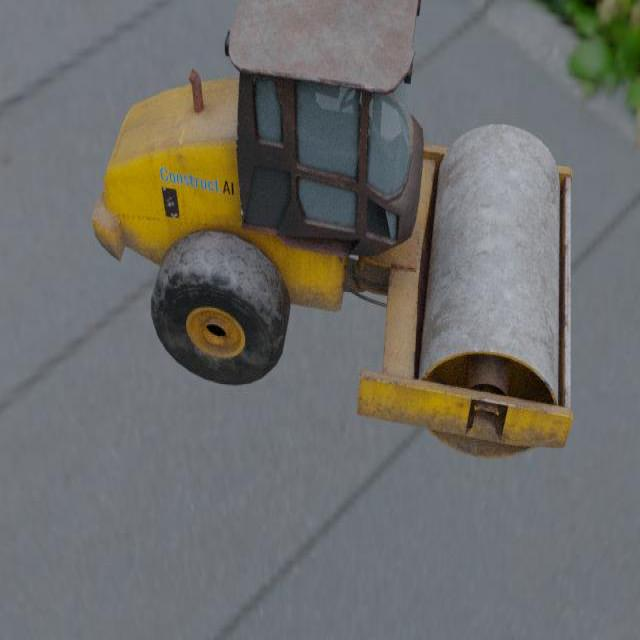Roller: (91, 0, 573, 460)
